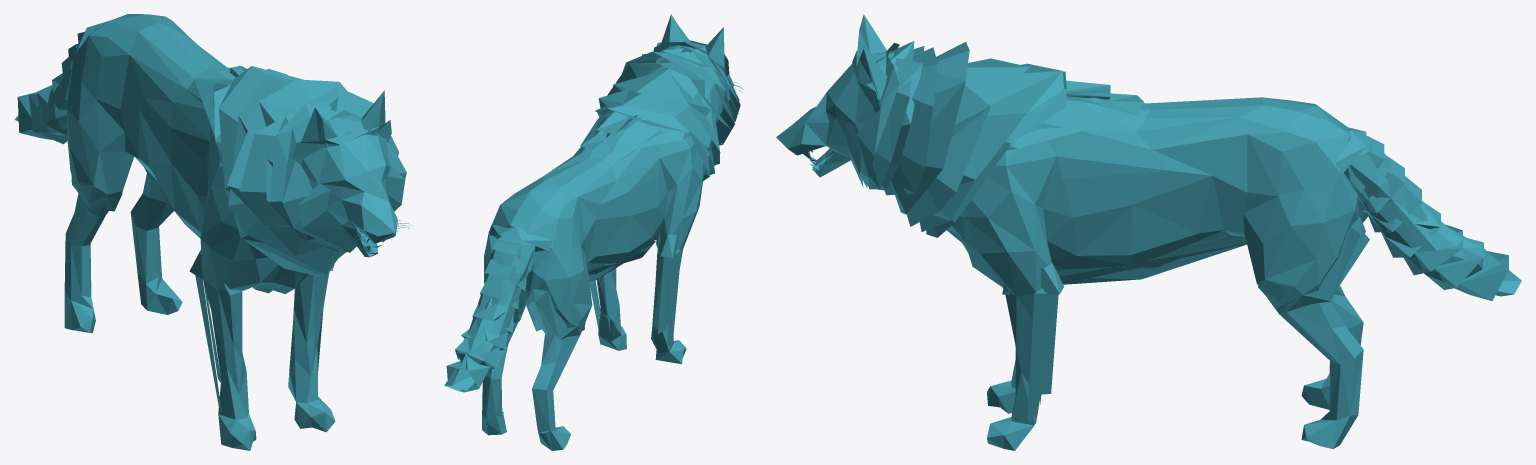
The model's file is GloupTestAnimé.fbx.
3 renders of one model, left to right at view 1: azimuth 30°, elevation 25°; view 2: azimuth 150°, elevation 25°; view 3: azimuth 270°, elevation 25°, orthographic. The views are drawn at different scales.
Parts seen in each view (by area): view 1: grp1; view 2: grp1; view 3: grp1.
Boxes of the visible parts, box(x1,y1,x2,y2) form: grp1: box(14, 14, 406, 450); grp1: box(444, 14, 740, 450); grp1: box(776, 14, 1521, 450).
Bounding box in the file's own units: 180 × 399 × 686.
